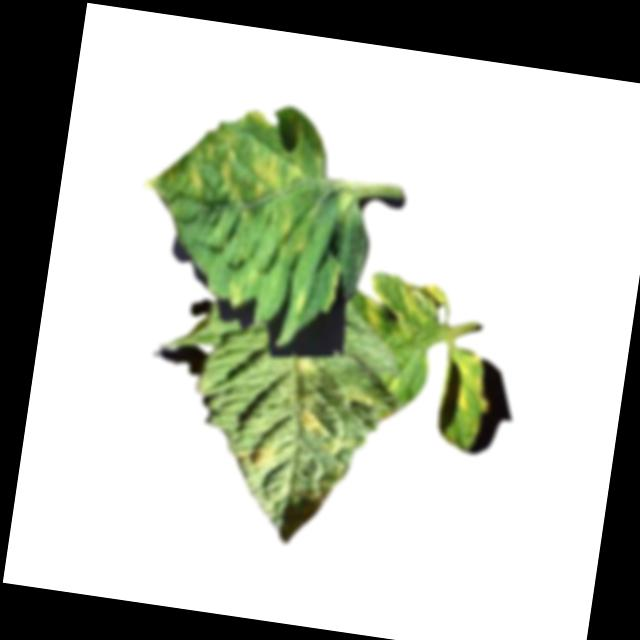Leaf_Mold: (135, 95, 325, 255), (360, 270, 459, 344), (434, 343, 493, 449), (235, 438, 283, 474), (293, 407, 339, 442), (293, 357, 320, 378)
